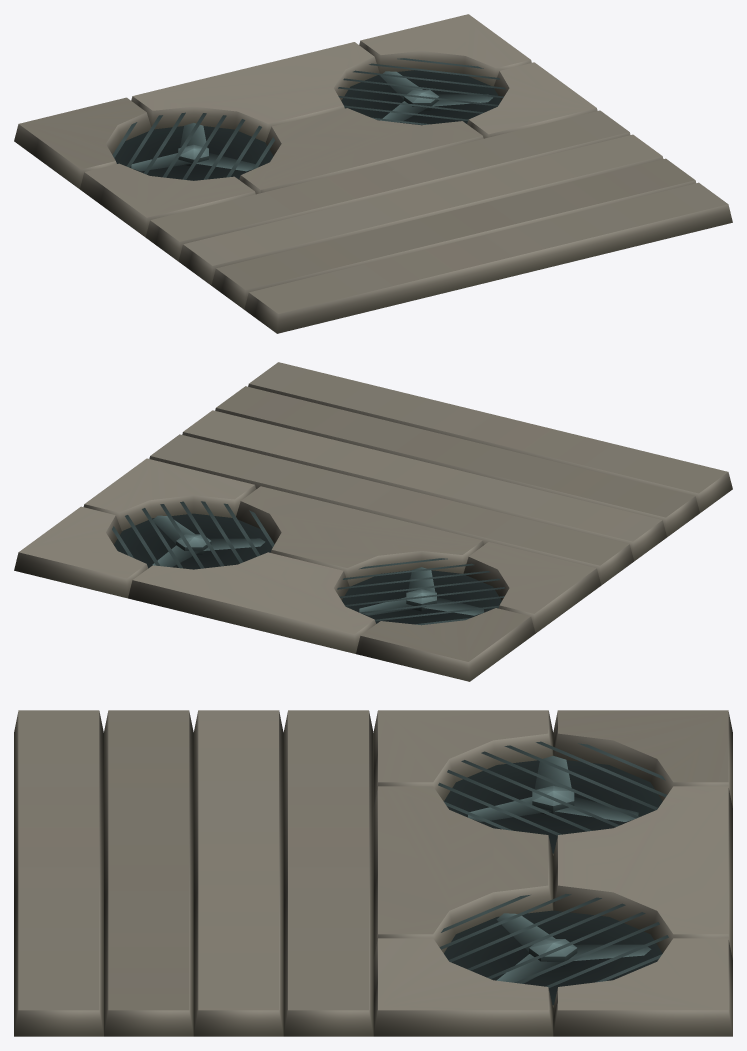
Rendered from Pavement_Industrial_2B_8X8.fbx.
3 views of the same model, one above another, from view 1: azimuth 30°, elevation 25°; view 2: azimuth 150°, elevation 25°; view 3: azimuth 270°, elevation 25° (orthographic). The views are drawn at different scales.
Parts seen in each view (by area): view 1: Pavement_Industrial_2B_8X8, Pavement_Industrial_2B_Fan.R, Pavement_Industrial_2B_Fan.L; view 2: Pavement_Industrial_2B_8X8, Pavement_Industrial_2B_Fan.L, Pavement_Industrial_2B_Fan.R; view 3: Pavement_Industrial_2B_8X8, Pavement_Industrial_2B_Fan.L, Pavement_Industrial_2B_Fan.R.
Boxes of the visible parts, bbox=[...] form: Pavement_Industrial_2B_8X8: bbox=[14, 14, 732, 333]; Pavement_Industrial_2B_Fan.R: bbox=[380, 71, 493, 122]; Pavement_Industrial_2B_Fan.L: bbox=[131, 123, 255, 171]; Pavement_Industrial_2B_8X8: bbox=[14, 362, 732, 681]; Pavement_Industrial_2B_Fan.L: bbox=[359, 567, 483, 615]; Pavement_Industrial_2B_Fan.R: bbox=[152, 515, 265, 567]; Pavement_Industrial_2B_8X8: bbox=[14, 710, 732, 1036]; Pavement_Industrial_2B_Fan.L: bbox=[468, 755, 638, 821]; Pavement_Industrial_2B_Fan.R: bbox=[496, 913, 651, 983].
Bounding box in the file's own units: 8 × 0.3 × 8.
